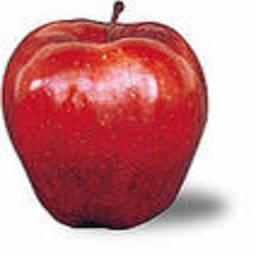apple: (0, 16, 207, 228)
